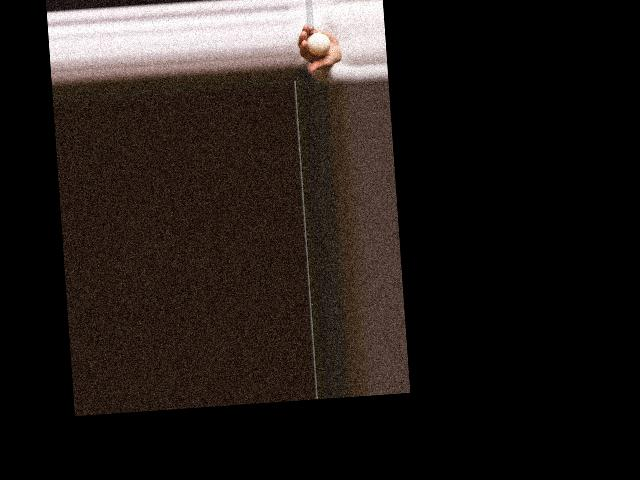egg: (305, 31, 330, 56)
